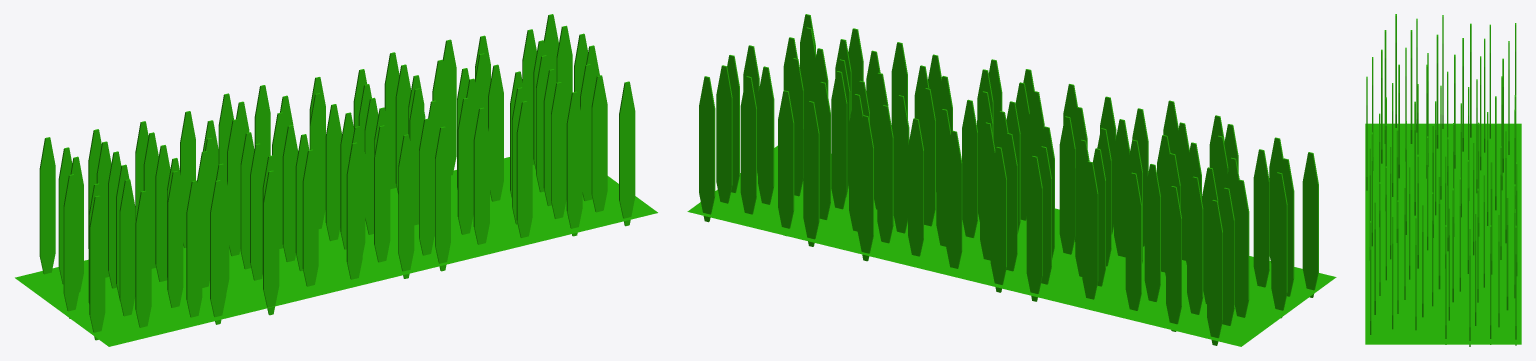
The model's file is kusa.fbx.
The picture shows the model from 3 angles, left to right: view 1: azimuth 30°, elevation 25°; view 2: azimuth 150°, elevation 25°; view 3: azimuth 270°, elevation 25°; orthographic projection. The views are drawn at different scales.
Visible parts, largest first — view 1: kusa001; view 2: kusa001; view 3: kusa001.
Boxes of the visible parts, <box> form: kusa001: <box>15,14,657,346</box>; kusa001: <box>687,14,1336,346</box>; kusa001: <box>1365,14,1521,346</box>.
Bounding box in the file's own units: 38.49 × 11.46 × 9.58.
